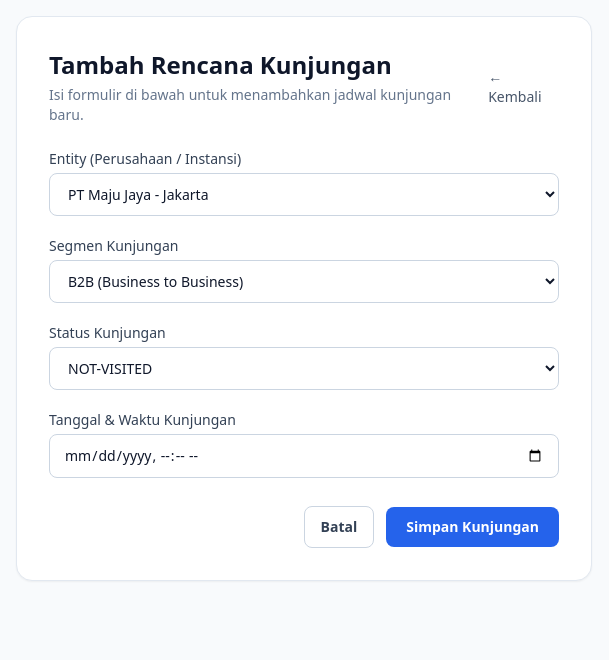
Test: TambahPengunjungPage (Halaman Tambah Rencana Kunjungan) › 4. Alur Gagal / Error Handling (API Error) › menampilkan pesan error dari server (400 Bad Request) dan tidak melakukan redirect
The width and height of the screenshot is (609, 660).
Expected: the dropdown labelled "Entity (Perusahaan / Instansi)" shows "PT Maju Jaya - Jakarta", [49,173,559,216]
// Isi form dan submit
Type "2026-11-25T09:00" into the field labelled "Tanggal & Waktu Kunjungan". click: (304, 456)
box: [49,434,559,478]
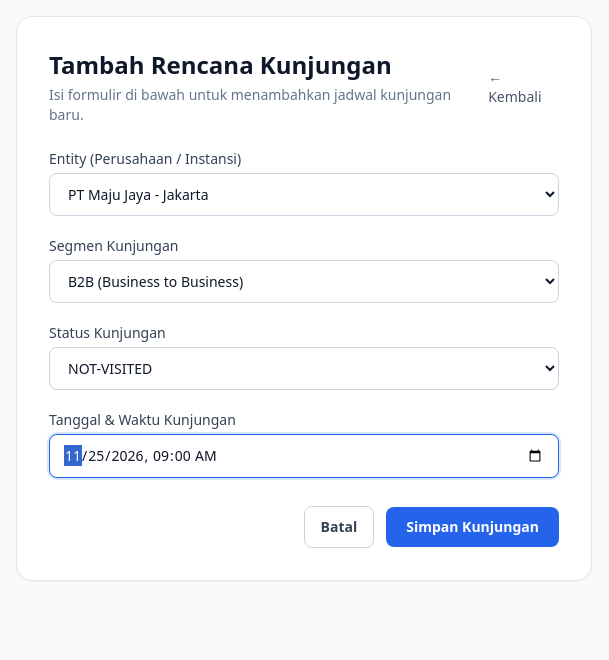
Click the button "Simpan Kunjungan". click: (473, 527)
box: [386,507,559,547]
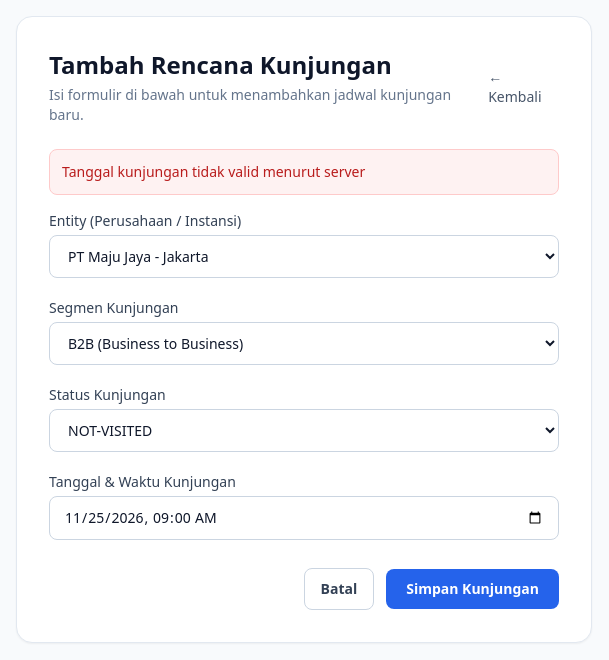
Now the message reads "Tanggal kunjungan tidak valid menurut server", box [62,162,365,181]
